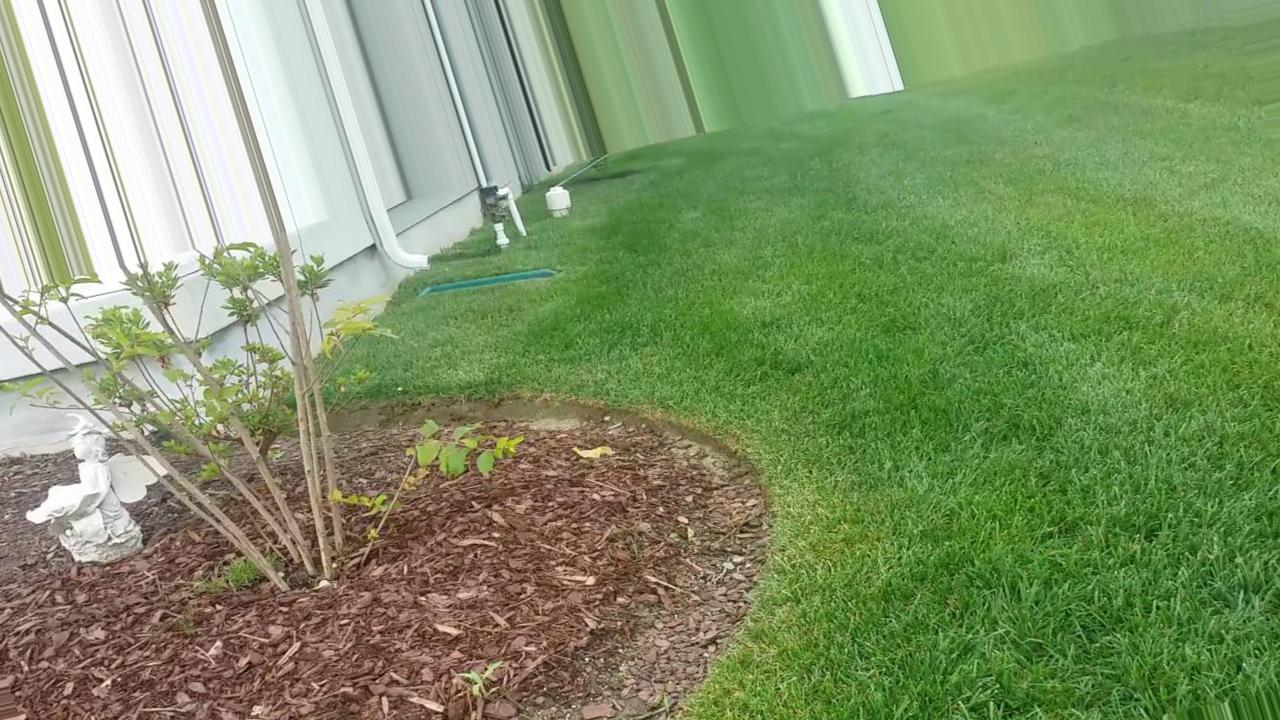patch: (109, 416, 649, 713), (1, 445, 256, 703), (639, 455, 744, 665)
